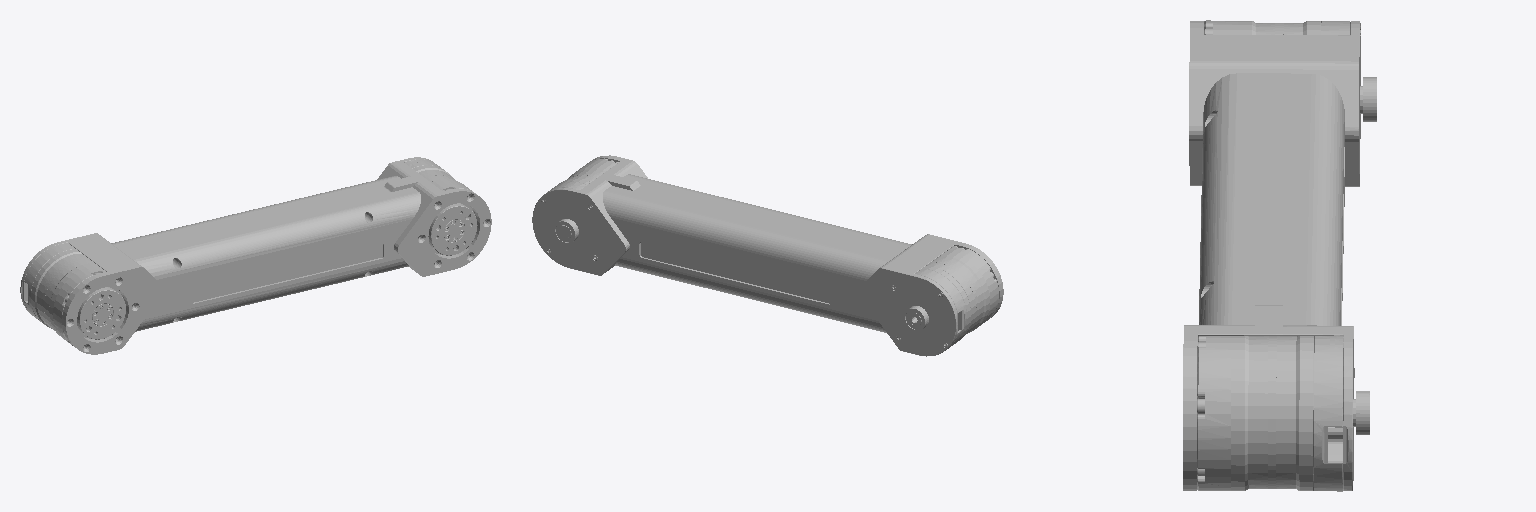
The robot description file, URDF, robot "airbot_play_v2_compatible_v1":
<?xml version="1.0" encoding="utf-8" ?>
<!-- This URDF was automatically created by SolidWorks to URDF Exporter! Originally created by [author] ([email redacted]) 
     Commit Version: 1.6.0-4-g7f85cfe  Build Version: 1.6.7995.38578
     For more information, please see http://wiki.ros.org/sw_urdf_exporter -->
<robot name="airbot_play_v2_compatible_v1">
    <link name="base_link">
        <inertial>
            <origin xyz="-7.40129893089808E-05 4.73956588868989E-05 0.0319836979079202" rpy="0 0 0" />
            <mass value="0.106247734066052" />
            <inertia ixx="0.00005415" ixy="-0.00000023" ixz="-0.00000014" iyy="0.00005459" iyz="0.00000040" izz="0.00005079" />
        </inertial>
        <visual>
            <origin xyz="0 0 0" rpy="0 0 0" />
            <geometry>
                <mesh filename="package://airbot_play_v2_compatible_v1/meshes/base_link.STL" />
            </geometry>
            <material name="">
                <color rgba="0.752941176470588 0.752941176470588 0.752941176470588 1" />
            </material>
        </visual>
        <collision>
            <origin xyz="0 0 0" rpy="0 0 0" />
            <geometry>
                <mesh filename="package://airbot_play_v2_compatible_v1/meshes/base_link.STL" />
            </geometry>
        </collision>
    </link>
    <link name="link1">
        <inertial>
            <origin xyz="-0.000110401401159852 -5.9516073937115E-06 -0.0236545243595387" rpy="0 0 0" />
            <mass value="0.0289493292404144" />
            <inertia ixx="0.00003415" ixy="0.00000020" ixz="0.00000001" iyy="0.00001116" iyz="-0.00000027" izz="0.00003205" />
        </inertial>
        <visual>
            <origin xyz="0 0 0" rpy="0 0 0" />
            <geometry>
                <mesh filename="package://airbot_play_v2_compatible_v1/meshes/link1.STL" />
            </geometry>
            <material name="">
                <color rgba="0.752941176470588 0.752941176470588 0.752941176470588 1" />
            </material>
        </visual>
        <collision>
            <origin xyz="0 0 0" rpy="0 0 0" />
            <geometry>
                <mesh filename="package://airbot_play_v2_compatible_v1/meshes/link1.STL" />
            </geometry>
        </collision>
    </link>
    <joint name="joint1" type="revolute">
        <origin xyz="0 0 0.1005" rpy="0 0 0" />
        <parent link="base_link" />
        <child link="link1" />
        <axis xyz="0 0 1" />
        <limit lower="-2" upper="3.14" effort="100" velocity="110" />
    </joint>
    <link name="link2">
        <inertial>
            <origin xyz="0.131402178034658 0.000874874727492106 0.00146175650714369" rpy="0 0 0" />
            <mass value="0.279611367698844" />
            <inertia ixx="0.00016136" ixy="0.00000210" ixz="0.00000085" iyy="0.00386078" iyz="-0.00000053" izz="0.00384575" />
        </inertial>
        <visual>
            <origin xyz="0 0 0" rpy="0 0 0" />
            <geometry>
                <mesh filename="package://airbot_play_v2_compatible_v1/meshes/link2.STL" />
            </geometry>
            <material name="">
                <color rgba="0.752941176470588 0.752941176470588 0.752941176470588 1" />
            </material>
        </visual>
        <collision>
            <origin xyz="0 0 0" rpy="0 0 0" />
            <geometry>
                <mesh filename="package://airbot_play_v2_compatible_v1/meshes/link2.STL" />
            </geometry>
        </collision>
    </link>
    <joint name="joint2" type="revolute">
        <origin xyz="0 0 0" rpy="-1.5708 0 3.1326" />
        <parent link="link1" />
        <child link="link2" />
        <axis xyz="0 0 1" />
        <limit lower="-3.14" upper="0" effort="100" velocity="110" />
    </joint>
    <link name="link3">
        <inertial>
            <origin xyz="0.0436765172603279 -0.124217952682154 0.000863985483631766" rpy="0 0 0" />
            <mass value="0.122069188848913" />
            <inertia ixx="0.00115336" ixy="-0.00016476" ixz="-0.00000590" iyy="0.00013590" iyz="0.00001452" izz="0.00116357" />
        </inertial>
        <visual>
            <origin xyz="0 0 0" rpy="0 0 0" />
            <geometry>
                <mesh filename="package://airbot_play_v2_compatible_v1/meshes/link3.STL" />
            </geometry>
            <material name="">
                <color rgba="0.752941176470588 0.752941176470588 0.752941176470588 1" />
            </material>
        </visual>
        <collision>
            <origin xyz="0 0 0" rpy="0 0 0" />
            <geometry>
                <mesh filename="package://airbot_play_v2_compatible_v1/meshes/link3.STL" />
            </geometry>
        </collision>
    </link>
    <joint name="joint3" type="revolute">
        <origin xyz="0.264 0 0" rpy="0 0 -1.5708" />
        <parent link="link2" />
        <child link="link3" />
        <axis xyz="0 0 1" />
        <limit lower="0" upper="3.9" effort="100" velocity="110" />
    </joint>
    <link name="link4">
        <inertial>
            <origin xyz="0.00828390341909283 -0.000179999901881347 -0.0065769202471522" rpy="0 0 0" />
            <mass value="0.0554511336545199" />
            <inertia ixx="0.00003621" ixy="-0.00000009" ixz="-0.00000080" iyy="0.00003646" iyz="-0.00000004" izz="0.00002921" />
        </inertial>
        <visual>
            <origin xyz="0 0 0" rpy="0 0 0" />
            <geometry>
                <mesh filename="package://airbot_play_v2_compatible_v1/meshes/link4.STL" />
            </geometry>
            <material name="">
                <color rgba="0.752941176470588 0.752941176470588 0.752941176470588 1" />
            </material>
        </visual>
        <collision>
            <origin xyz="0 0 0" rpy="0 0 0" />
            <geometry>
                <mesh filename="package://airbot_play_v2_compatible_v1/meshes/link4.STL" />
            </geometry>
        </collision>
    </link>
    <joint name="joint4" type="revolute">
        <origin xyz="0.05675 -0.306 0" rpy="1.5708 0 0" />
        <parent link="link3" />
        <child link="link4" />
        <axis xyz="0 0 1" />
        <limit lower="-4" upper="4" effort="100" velocity="110" />
    </joint>
    <link name="link5">
        <inertial>
            <origin xyz="-0.0497295146243167 -0.000651142203663118 -0.00612845823429062" rpy="0 0 0" />
            <mass value="0.0671120133830051" />
            <inertia ixx="0.00003435" ixy="0.00000107" ixz="-0.00001436" iyy="0.00006703" iyz="-0.00000019" izz="0.00006201" />
        </inertial>
        <visual>
            <origin xyz="0 0 0" rpy="0 0 0" />
            <geometry>
                <mesh filename="package://airbot_play_v2_compatible_v1/meshes/link5.STL" />
            </geometry>
            <material name="">
                <color rgba="0.752941176470588 0.752941176470588 0.752941176470588 1" />
            </material>
        </visual>
        <collision>
            <origin xyz="0 0 0" rpy="0 0 0" />
            <geometry>
                <mesh filename="package://airbot_play_v2_compatible_v1/meshes/link5.STL" />
            </geometry>
        </collision>
    </link>
    <joint name="joint5" type="revolute">
        <origin xyz="0 0 0" rpy="-1.5708 1.5618 -1.5708" />
        <parent link="link4" />
        <child link="link5" />
        <axis xyz="0 0 1" />
        <limit lower="-1.4" upper="1.57" effort="100" velocity="110" />
    </joint>
    <link name="gripper_link">
        <inertial>
            <origin xyz="0 0 0" rpy="0 0 0" />
            <mass value="1E-15" />
            <inertia ixx="1E-11" ixy="1E-15" ixz="1E-15" iyy="1E-11" iyz="1E-15" izz="1E-11" />
        </inertial>
    </link>
    <joint name="joint6" type="revolute">
        <origin xyz="0 0 0" rpy="-1.5708 0 1.5708" />
        <parent link="link5" />
        <child link="gripper_link" />
        <axis xyz="0 0 1" />
        <limit lower="-10" upper="10" effort="100" velocity="1000" />
    </joint>
    <link name="custom_end_link">
        <inertial>
            <origin xyz="0 0 0" rpy="0 0 0" />
            <mass value="1E-15" />
            <inertia ixx="1E-11" ixy="1E-15" ixz="1E-15" iyy="1E-11" iyz="1E-15" izz="1E-11" />
        </inertial>
    </link>
    <joint name="joint_custom_end" type="fixed">
        <origin xyz="0 0 0.078" rpy="1.5708 -1.5708 0" />
        <parent link="gripper_link" />
        <child link="custom_end_link" />
    </joint>
    <transmission name="trans_joint1">
        <type>transmission_interface/SimpleTransmission</type>
        <joint name="joint1">
            <hardwareInterface>hardware_interface/PositionJointInterface</hardwareInterface>
        </joint>
        <actuator name="joint1_motor">
            <hardwareInterface>hardware_interface/PositionJointInterface</hardwareInterface>
            <mechanicalReduction>1</mechanicalReduction>
        </actuator>
    </transmission>
    <transmission name="trans_joint2">
        <type>transmission_interface/SimpleTransmission</type>
        <joint name="joint2">
            <hardwareInterface>hardware_interface/PositionJointInterface</hardwareInterface>
        </joint>
        <actuator name="joint2_motor">
            <hardwareInterface>hardware_interface/PositionJointInterface</hardwareInterface>
            <mechanicalReduction>1</mechanicalReduction>
        </actuator>
    </transmission>
    <transmission name="trans_joint3">
        <type>transmission_interface/SimpleTransmission</type>
        <joint name="joint3">
            <hardwareInterface>hardware_interface/PositionJointInterface</hardwareInterface>
        </joint>
        <actuator name="joint3_motor">
            <hardwareInterface>hardware_interface/PositionJointInterface</hardwareInterface>
            <mechanicalReduction>1</mechanicalReduction>
        </actuator>
    </transmission>
    <transmission name="trans_joint4">
        <type>transmission_interface/SimpleTransmission</type>
        <joint name="joint4">
            <hardwareInterface>hardware_interface/PositionJointInterface</hardwareInterface>
        </joint>
        <actuator name="joint4_motor">
            <hardwareInterface>hardware_interface/PositionJointInterface</hardwareInterface>
            <mechanicalReduction>1</mechanicalReduction>
        </actuator>
    </transmission>
    <transmission name="trans_joint5">
        <type>transmission_interface/SimpleTransmission</type>
        <joint name="joint5">
            <hardwareInterface>hardware_interface/PositionJointInterface</hardwareInterface>
        </joint>
        <actuator name="joint5_motor">
            <hardwareInterface>hardware_interface/PositionJointInterface</hardwareInterface>
            <mechanicalReduction>1</mechanicalReduction>
        </actuator>
    </transmission>
    <transmission name="trans_joint6">
        <type>transmission_interface/SimpleTransmission</type>
        <joint name="joint6">
            <hardwareInterface>hardware_interface/PositionJointInterface</hardwareInterface>
        </joint>
        <actuator name="joint6_motor">
            <hardwareInterface>hardware_interface/PositionJointInterface</hardwareInterface>
            <mechanicalReduction>1</mechanicalReduction>
        </actuator>
    </transmission>
    <gazebo>
        <plugin name="gazebo_ros_control">
            <robotNamespace>/</robotNamespace>
        </plugin>
    </gazebo>
</robot>

--- What the picture shows (computed from the rendered views, not written in the file) ---
Views: 3 orthographic renders of the robot side by side, from view 1: azimuth 30°, elevation 25°; view 2: azimuth 150°, elevation 25°; view 3: azimuth 270°, elevation 25°.
Model airbot_play_v2_compatible_v1 with 8 links and 7 joints (6 revolute, 1 fixed), rooted at base_link, posed every joint at zero.
Links seen in each view (by area): view 1: link2; view 2: link2; view 3: link2.
Link boxes in pixels (left/top/right/bottom): link2: left=20, top=157, right=491, bottom=354; link2: left=532, top=155, right=1003, bottom=356; link2: left=1183, top=20, right=1376, bottom=491.
Size in the robot's own frame: 0.3204 by 0.0692 by 0.056 metres.
Meshes: 6 distinct files referenced, 1 mesh visuals loaded (1 binary STL); not drawn: 5 (reference not matched to a file when rendering).